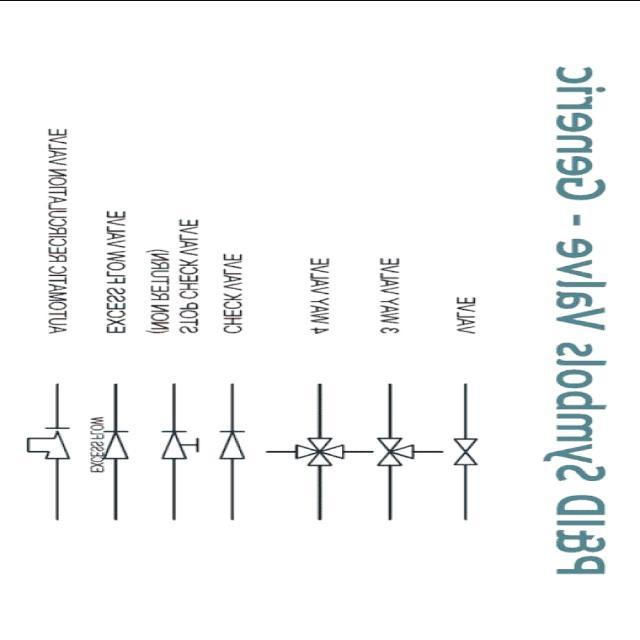3 Way Gate Valve: (374, 427, 424, 482)
4 Way Gate Valve: (279, 426, 364, 494)
Gate Valve: (449, 430, 503, 472)
